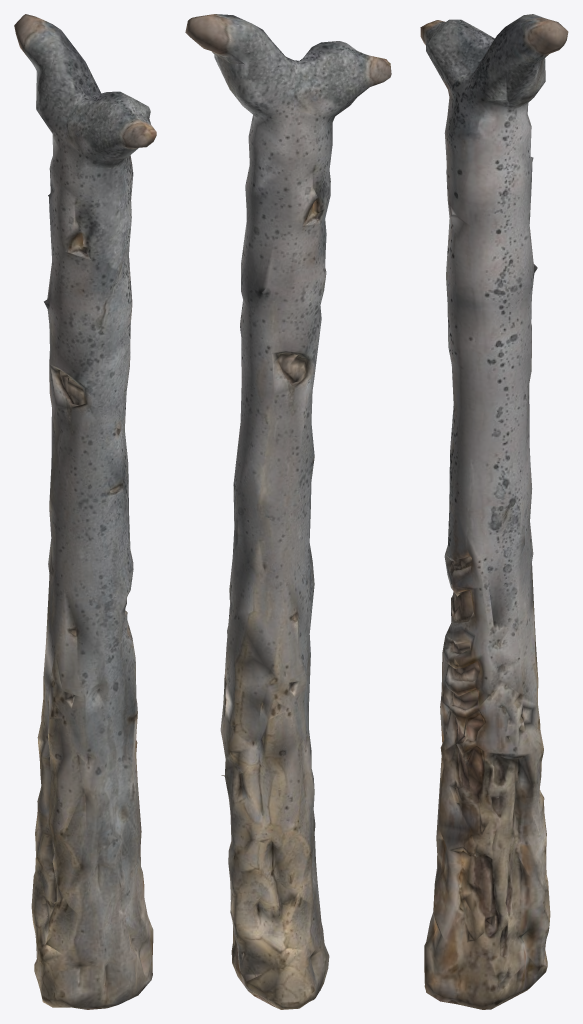
File: dead_quiver_trunk.glb
The picture shows the model from 3 angles, left to right: view 1: azimuth 90°, elevation 25°; view 2: azimuth 150°, elevation 25°; view 3: azimuth 270°, elevation 25°; orthographic projection. The views are drawn at different scales.
Size of the model in its own units: 0.3053 by 1.99 by 0.2681.
Materials: 1 (1 with a texture image).
